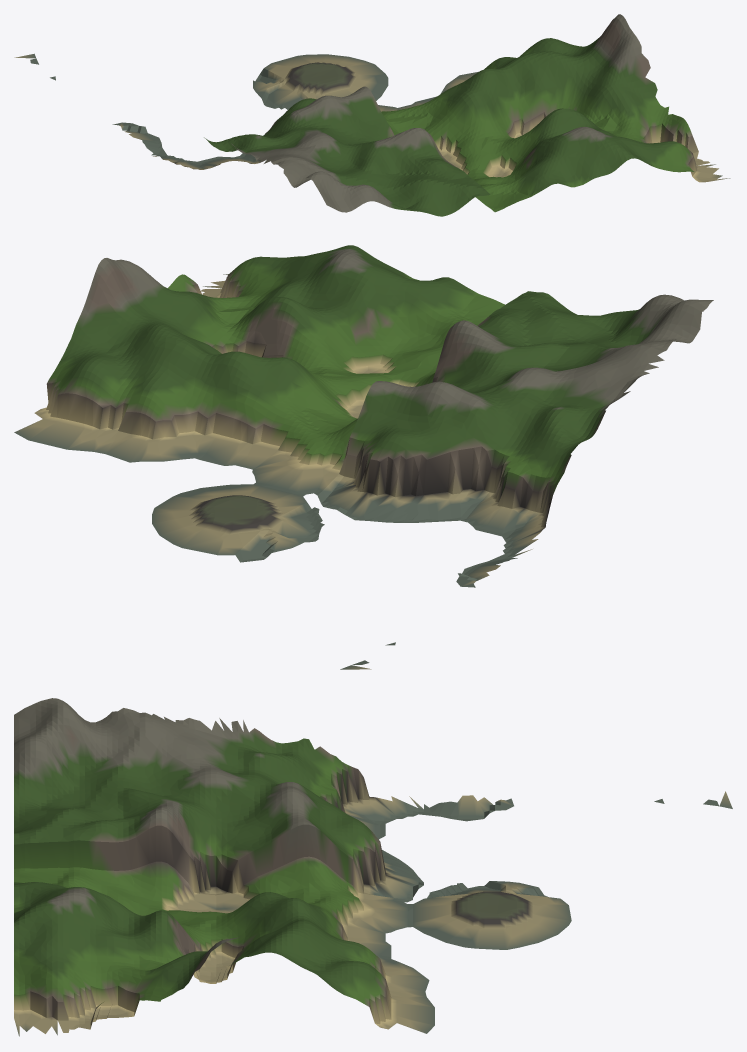
Rendered from coast_tile_x1z3_lod1.glb.
The picture shows the model from 3 angles, top to bottom: view 1: azimuth 30°, elevation 25°; view 2: azimuth 150°, elevation 25°; view 3: azimuth 270°, elevation 25°; orthographic projection. The views are drawn at different scales.
Visible parts, largest first — view 1: geometry_0; view 2: geometry_0; view 3: geometry_0.
Boxes of the visible parts, x1,y1,x2,y2 form: geometry_0: [14, 14, 730, 216]; geometry_0: [14, 245, 713, 669]; geometry_0: [14, 698, 732, 1036].
Bounding box in the file's own units: 630 × 134 × 789.
